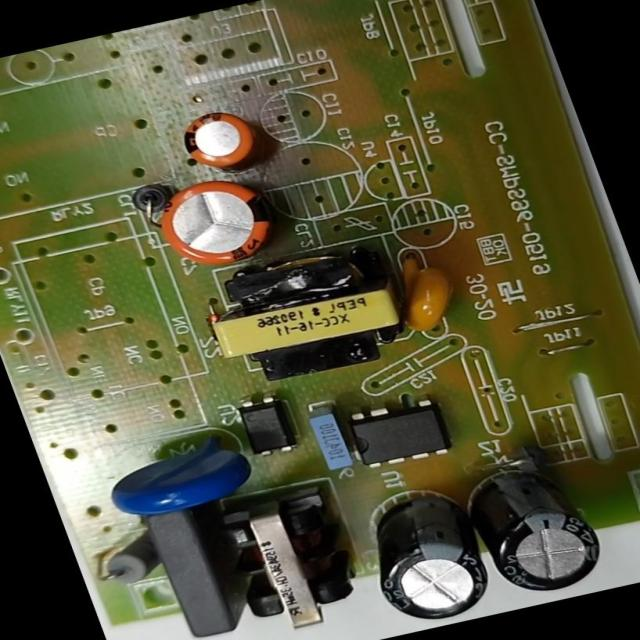Cap1: (140, 161, 300, 285)
Cap2: (165, 95, 281, 183)
Cap3: (346, 477, 508, 633)
Cap4: (445, 445, 628, 605)
MOSFET: (333, 385, 467, 476)
Mov: (91, 418, 272, 528)
Resistor: (80, 523, 171, 594)
Transformer: (189, 236, 429, 395), (203, 478, 379, 640)
